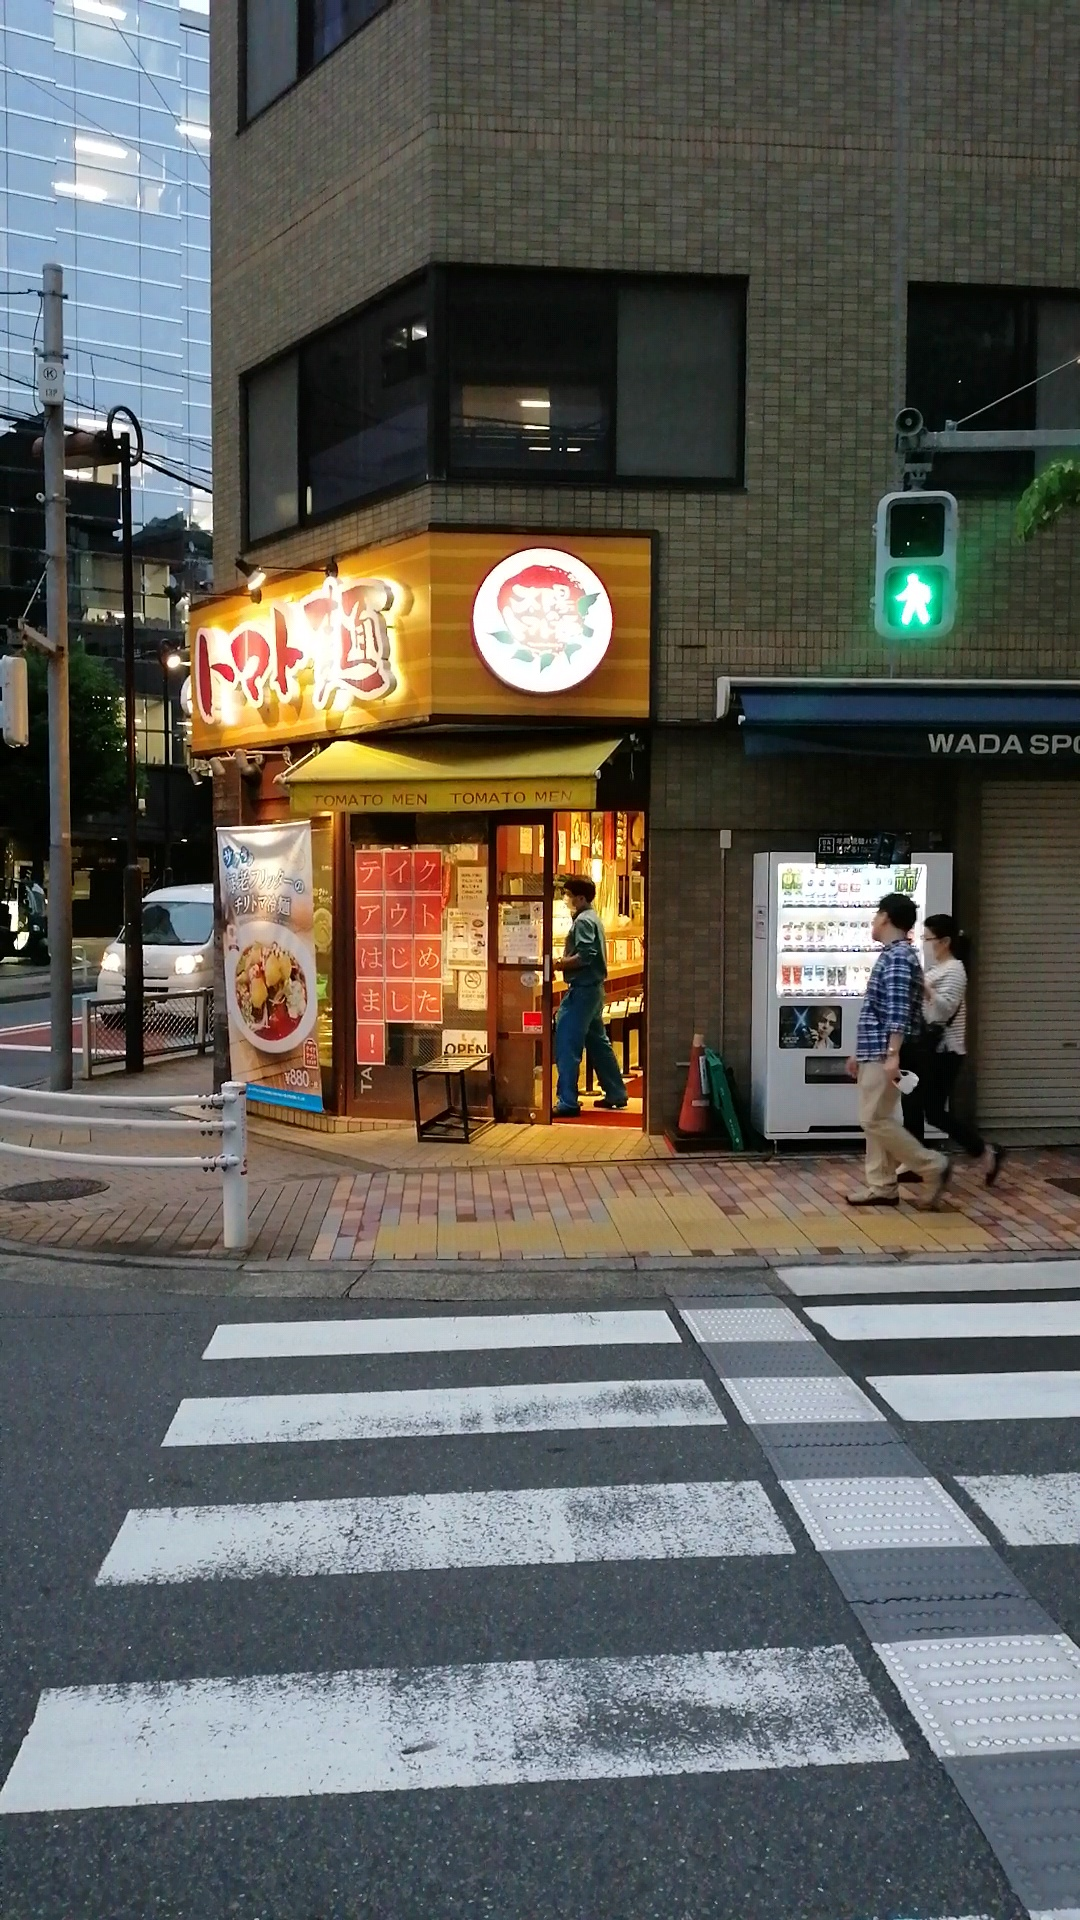green: (876, 491, 953, 636)
